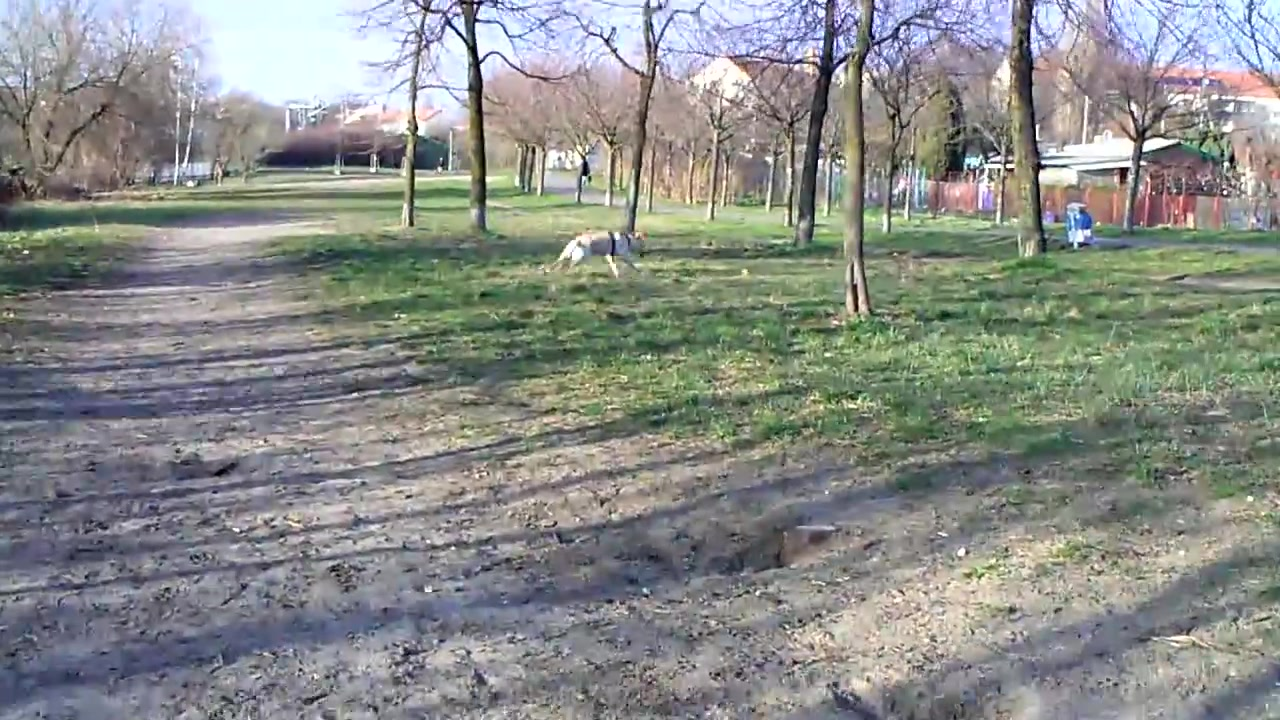dog: (550, 229, 650, 279)
